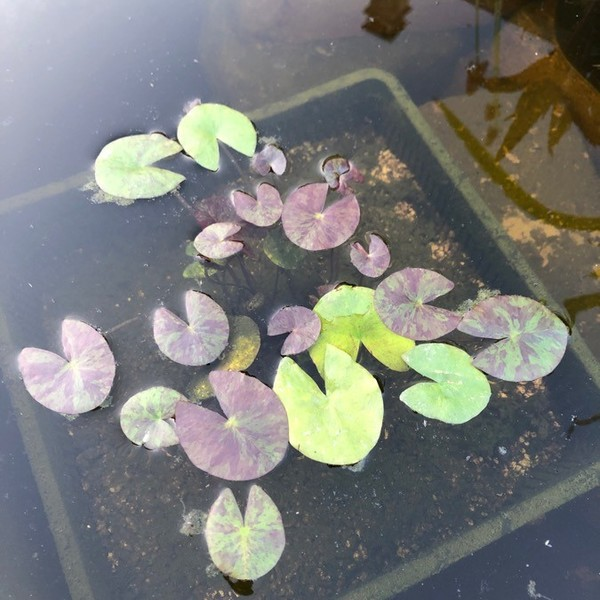obstacle: (290, 275, 529, 441), (169, 370, 284, 480), (16, 312, 138, 410), (179, 102, 270, 166)
